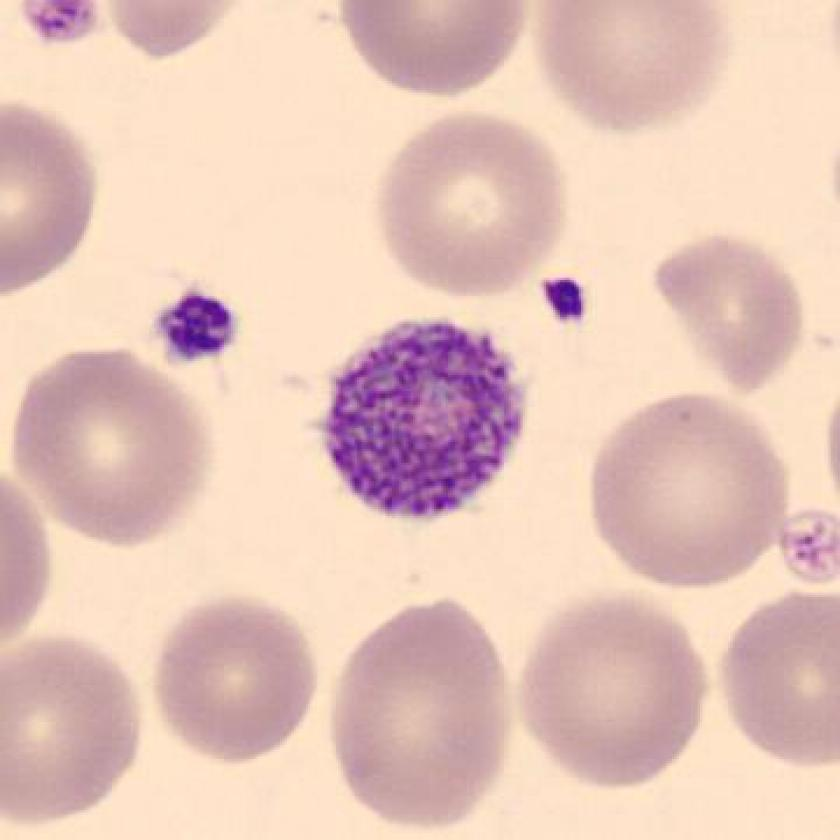platelets: (318, 311, 538, 529), (153, 284, 253, 379), (771, 503, 840, 584), (17, 1, 111, 52), (533, 267, 591, 348)
